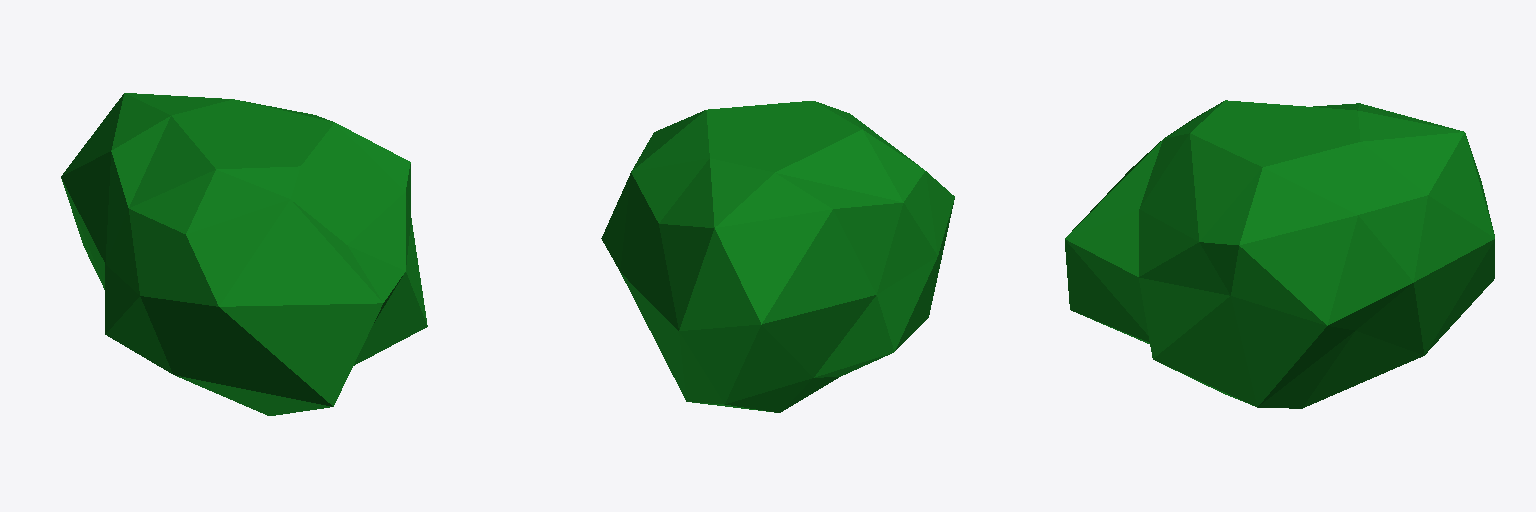
3 views of the same model, side by side, from view 1: azimuth 30°, elevation 25°; view 2: azimuth 150°, elevation 25°; view 3: azimuth 270°, elevation 25° (orthographic).
Visible parts, largest first — view 1: Икосфера; view 2: Икосфера; view 3: Икосфера.
Boxes of the visible parts, x1,y1,x2,y2 form: Икосфера: [61, 93, 427, 415]; Икосфера: [601, 101, 954, 412]; Икосфера: [1065, 100, 1494, 408].
Size of the model in its own units: 0.8721 by 0.7176 by 1.14.